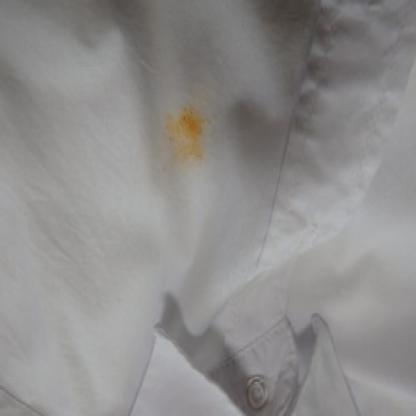kimchi: (155, 108, 215, 162)
